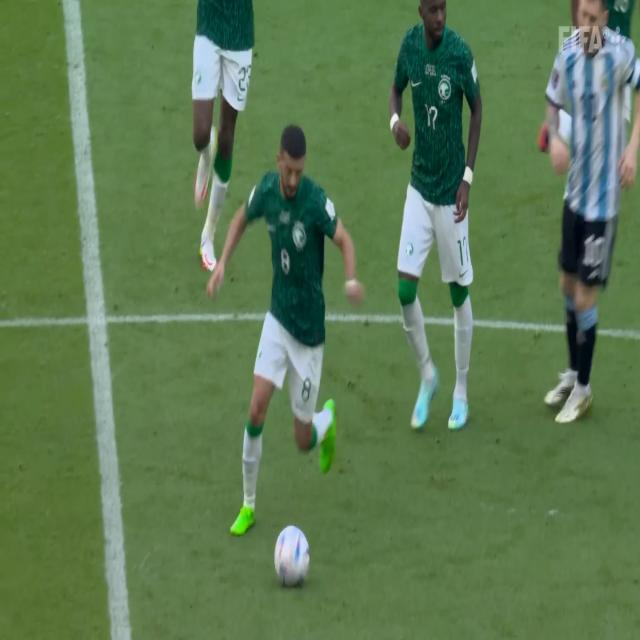football: (269, 521, 314, 596)
